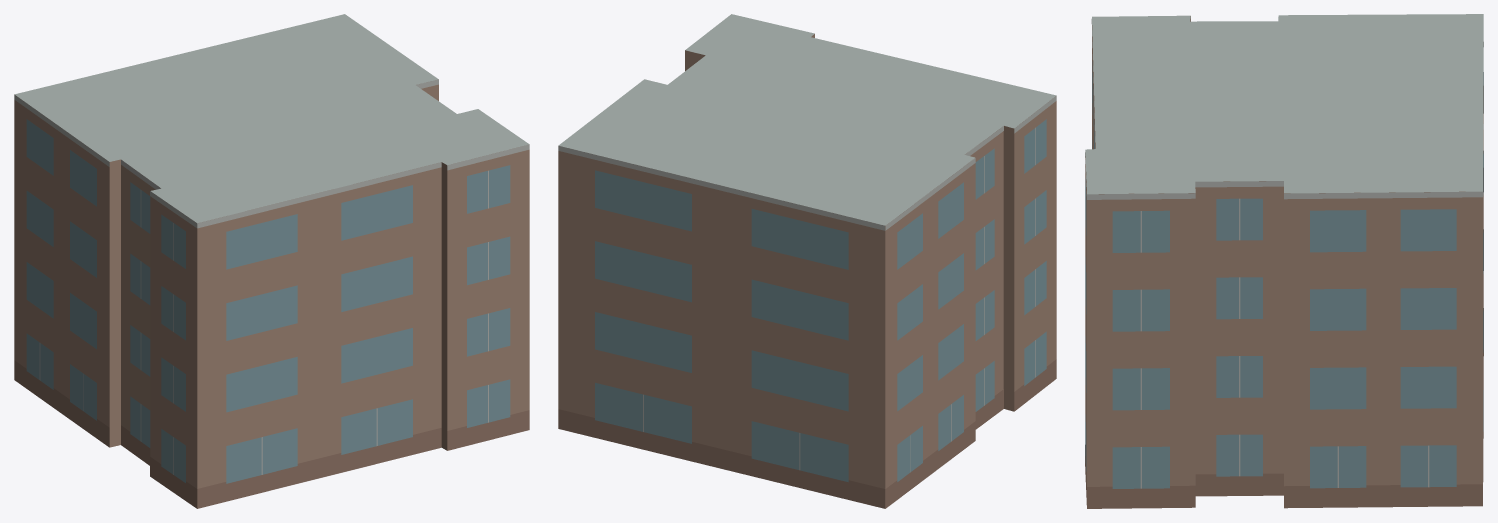
Rendered from survey-upis-33027402.glb.
3 views of the same model, side by side, from view 1: azimuth 30°, elevation 25°; view 2: azimuth 150°, elevation 25°; view 3: azimuth 270°, elevation 25° (orthographic). The views are drawn at different scales.
Parts seen in each view (by area): view 1: survey-upis-33027402.tmp; view 2: survey-upis-33027402.tmp; view 3: survey-upis-33027402.tmp.
Part boxes in pixels (x1=…): survey-upis-33027402.tmp: x1=14, y1=14, x2=529, y2=508; survey-upis-33027402.tmp: x1=558, y1=14, x2=1056, y2=508; survey-upis-33027402.tmp: x1=1085, y1=14, x2=1483, y2=508.
Bounding box in the file's own units: 16.47 × 13.4 × 15.4.
